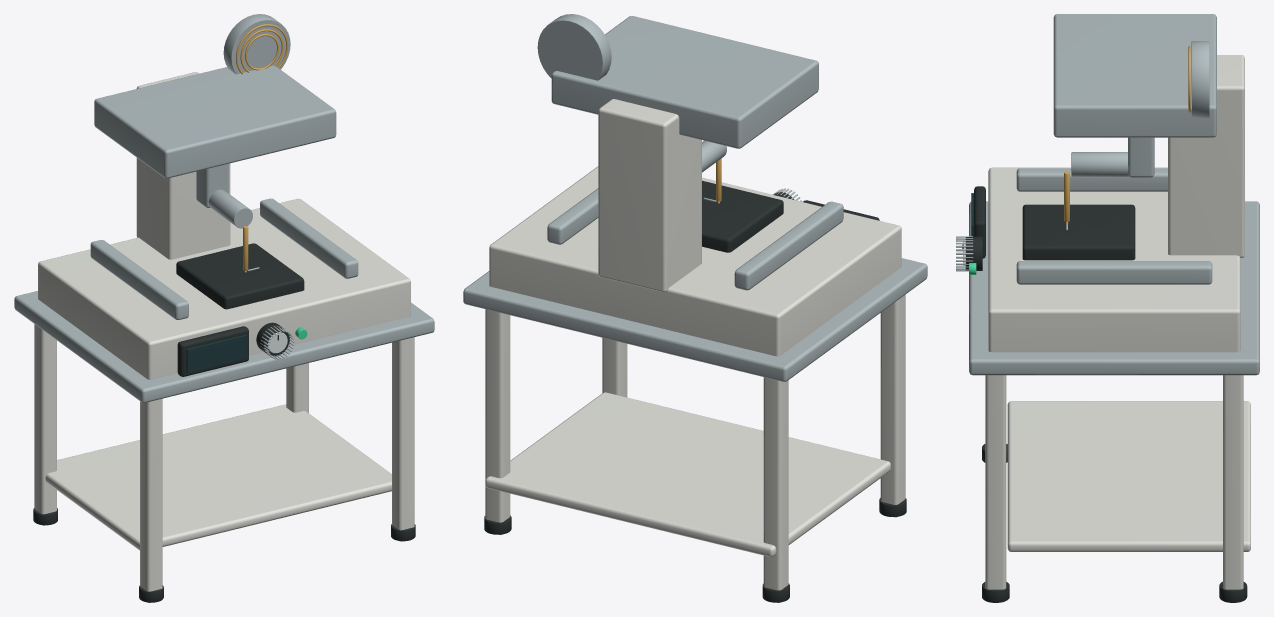
File: bonder.glb
The picture shows the model from 3 angles, left to right: view 1: azimuth 30°, elevation 25°; view 2: azimuth 150°, elevation 25°; view 3: azimuth 270°, elevation 25°; orthographic projection. The views are drawn at different scales.
Visible parts, largest first — view 1: Equipment_bonder_Ceramic ivory, Equipment_bonder_Brushed stainless, Equipment_bonder_Knurled graphite, Tool.004_Brushed stainless, LCD.021, Equipment_bonder_Gold contacts; view 2: Equipment_bonder_Ceramic ivory, Equipment_bonder_Brushed stainless, Equipment_bonder_Knurled graphite; view 3: Equipment_bonder_Ceramic ivory, Equipment_bonder_Brushed stainless, Equipment_bonder_Knurled graphite, Tool.004_Brushed stainless, Knob_main.021.
Part boxes in pixels (x1,y1,x2,y2): Equipment_bonder_Ceramic ivory: [34, 72, 414, 602]; Equipment_bonder_Brushed stainless: [14, 14, 434, 402]; Equipment_bonder_Knurled graphite: [33, 243, 415, 602]; Tool.004_Brushed stainless: [196, 163, 252, 228]; LCD.021: [186, 334, 246, 373]; Equipment_bonder_Gold contacts: [236, 24, 288, 74]; Equipment_bonder_Ceramic ivory: [485, 99, 905, 602]; Equipment_bonder_Brushed stainless: [463, 14, 927, 381]; Equipment_bonder_Knurled graphite: [484, 180, 906, 602]; Equipment_bonder_Ceramic ivory: [985, 55, 1250, 589]; Equipment_bonder_Brushed stainless: [956, 14, 1259, 375]; Equipment_bonder_Knurled graphite: [962, 186, 1247, 602]; Tool.004_Brushed stainless: [1071, 137, 1154, 177]; Knob_main.021: [965, 236, 982, 270].
Bounding box in the file's own units: 1.28 × 1.95 × 1.02.
